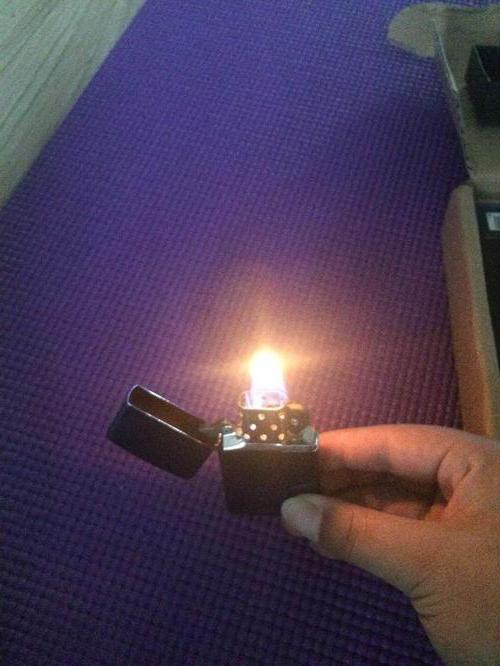fire: (231, 338, 299, 419)
